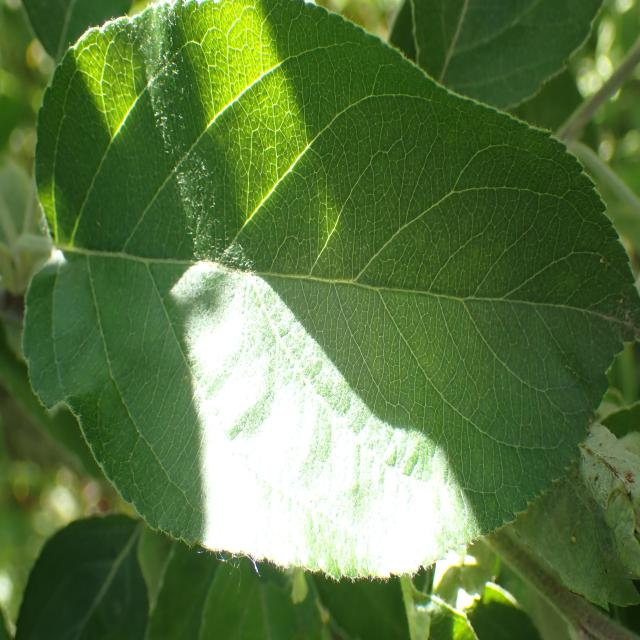healthy: (22, 1, 640, 584), (391, 0, 606, 114), (12, 512, 151, 640)
